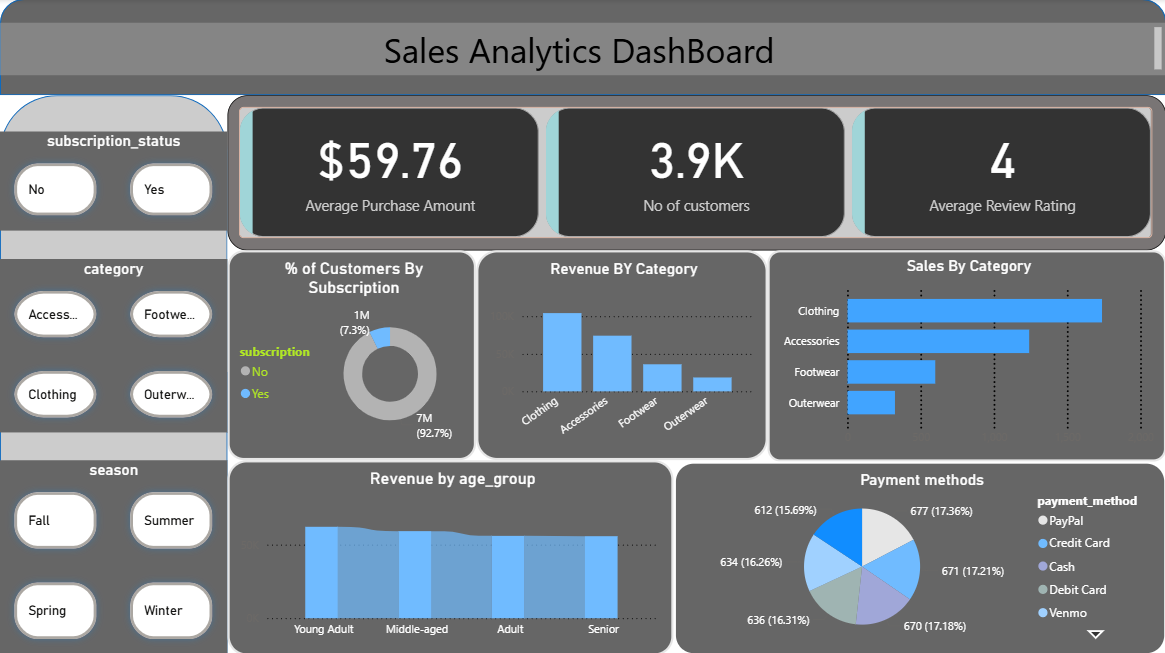

The page's visual inventory and layout, read from the dashboard file:
{"tool":"powerbi","page":{"name":"Page 1","canvas":[1280,720],"ordinal":0},"visuals":[{"type":"cardVisual","fields":{"Data":["public customer.Average Purchase Amount","public customer.No of customers","public customer.Average Review Rating"]},"box":[249.7,105.7,1030.5,170.2],"z":0},{"type":"shape","box":[0,0,1280.3,105.7],"z":1000},{"type":"textbox","box":[0,26.1,1280.3,57.6],"z":2000},{"type":"donutChart","title":"% of Customers By Subscription","fields":{"Category":["public customer.subscription_status"],"Y":["Sum(public customer.customer_id)"]},"box":[249.7,275.8,273.1,230.5],"z":3000},{"type":"clusteredColumnChart","title":"Revenue BY Category","fields":{"Category":["public customer.category"],"Y":["Sum(public customer.purchase_amount)"]},"box":[522.8,275.8,319.7,230.5],"z":4000},{"type":"barChart","title":"Sales By Category","fields":{"Category":["public customer.category"],"Y":["CountNonNull(public customer.item_purchased)"]},"box":[842.5,275.8,437.7,231.9],"z":5000},{"type":"shape","box":[0,105.7,249.7,614.8],"z":6000},{"type":"advancedSlicerVisual","fields":{"Values":["public customer.subscription_status"]},"box":[0,145.5,249.7,108.4],"z":7000},{"type":"advancedSlicerVisual","fields":{"Values":["public customer.category"]},"box":[0,285.4,249.7,190.7],"z":7001},{"type":"advancedSlicerVisual","fields":{"Values":["public customer.season"]},"box":[0,506.3,249.7,214.1],"z":7002},{"type":"ribbonChart","title":"Revenue by age_group","fields":{"Category":["public customer.age_group"],"Y":["Sum(public customer.purchase_amount)"]},"box":[249.7,506.3,489.9,214.1],"z":7003},{"type":"pieChart","title":"Payment methods","fields":{"Category":["public customer.payment_method"],"Y":["CountNonNull(public customer.payment_method)"]},"box":[739.6,507.7,540.7,212.7],"z":7004}]}

Visuals, with their boxes in screenshot pixels (x1, y1, x2, y2), scaled from the page's 1280x720 canvas onto the 1165x653 screenshot:
cardVisual - public customer.Average Purchase Amount x public customer.No of customers: detection(227, 96, 1164, 250)
shape: detection(0, 0, 1164, 96)
textbox: detection(0, 24, 1164, 76)
"% of Customers By Subscription" donutChart: detection(227, 250, 476, 459)
"Revenue BY Category" clusteredColumnChart: detection(476, 250, 767, 459)
"Sales By Category" barChart: detection(767, 250, 1164, 460)
shape: detection(0, 96, 227, 652)
advancedSlicerVisual - public customer.subscription_status: detection(0, 132, 227, 230)
advancedSlicerVisual - public customer.category: detection(0, 259, 227, 432)
advancedSlicerVisual - public customer.season: detection(0, 459, 227, 652)
"Revenue by age_group" ribbonChart: detection(227, 459, 673, 652)
"Payment methods" pieChart: detection(673, 460, 1164, 652)
